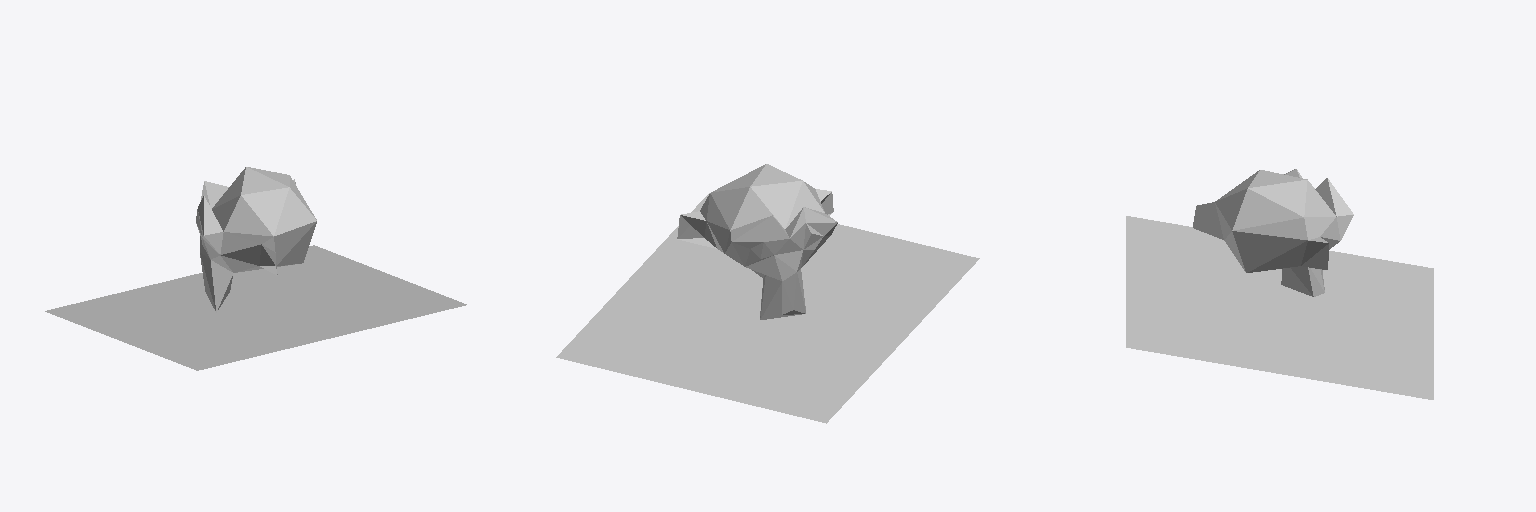
File: fsuzane.obj
3 renders of one model, left to right at view 1: azimuth 30°, elevation 25°; view 2: azimuth 150°, elevation 25°; view 3: azimuth 270°, elevation 25°, orthographic.
Parts seen in each view (by area): view 1: Plane, Suzanne; view 2: Plane, Suzanne; view 3: Plane, Suzanne.
Boxes of the visible parts, x1,y1,x2,y2 form: Plane: [45, 245, 466, 370]; Suzanne: [196, 167, 316, 312]; Plane: [556, 193, 979, 423]; Suzanne: [677, 164, 837, 319]; Plane: [1126, 216, 1433, 399]; Suzanne: [1193, 169, 1353, 296].
Size of the model in its own units: 4.37 by 2.42 by 4.29.